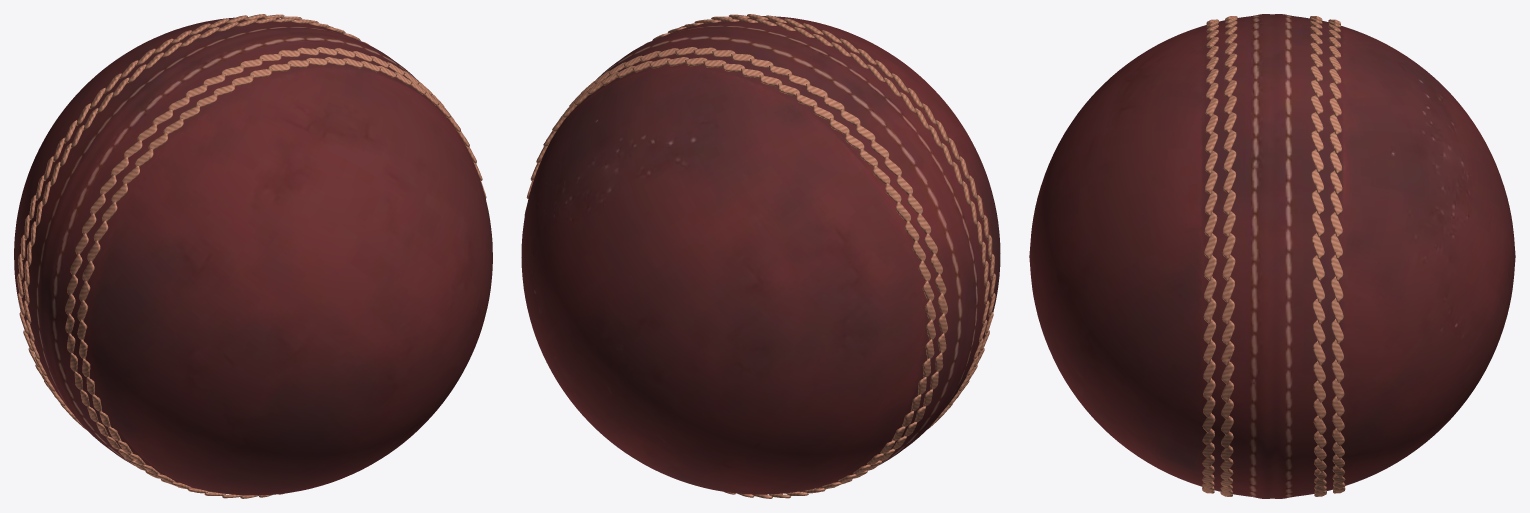
File: cricket.glb
3 views of the same model, side by side, from view 1: azimuth 30°, elevation 25°; view 2: azimuth 150°, elevation 25°; view 3: azimuth 270°, elevation 25° (orthographic).
Visible parts, largest first — view 1: Sphere; view 2: Sphere; view 3: Sphere.
Boxes of the visible parts, x1=… form: Sphere: x1=14, y1=14, x2=492, y2=498; Sphere: x1=521, y1=14, x2=1000, y2=498; Sphere: x1=1029, y1=14, x2=1515, y2=498.
Size of the model in its own units: 0.0688 by 0.0688 by 0.069.
1 material, 1 textured.
